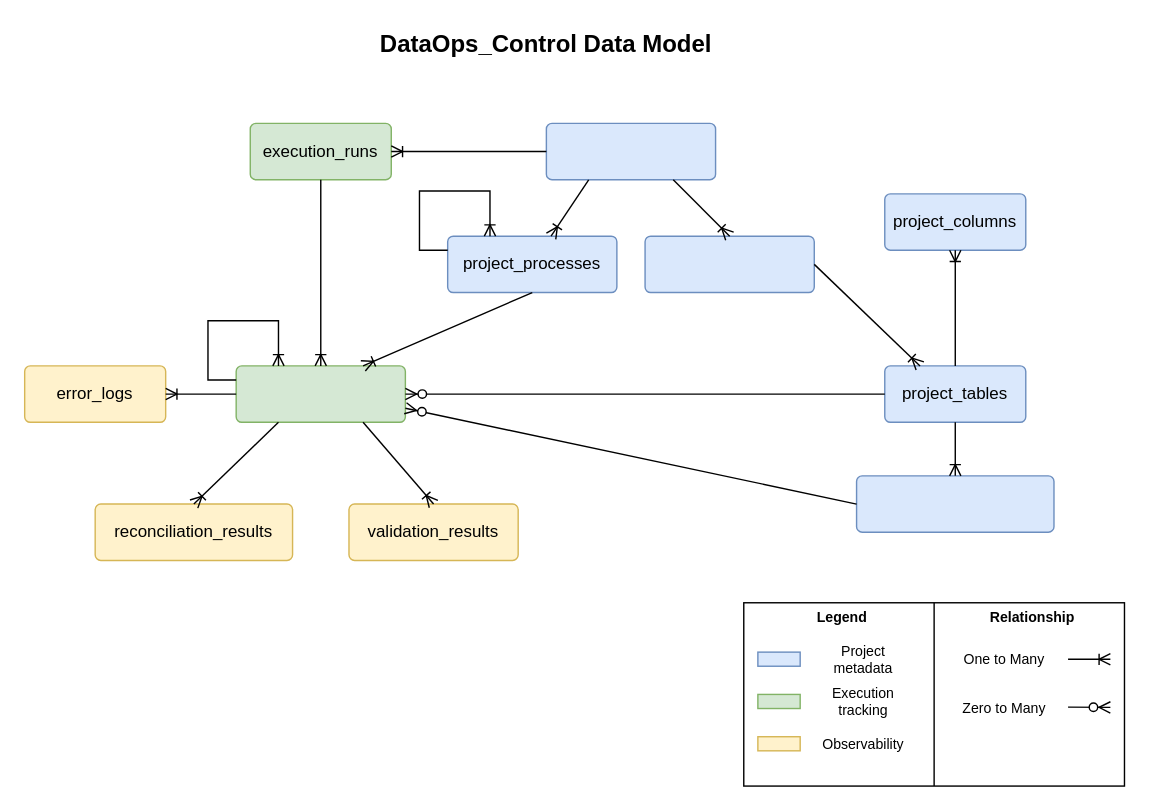
This 1149x812 diagram has some shape labels left out. Each missing label, with the centre of its shape:
"execution_steps" belongs at point (320, 393).
"project_databases" belongs at point (729, 264).
"projects" belongs at point (630, 151).
"table_batch_executions" belongs at point (954, 503).
